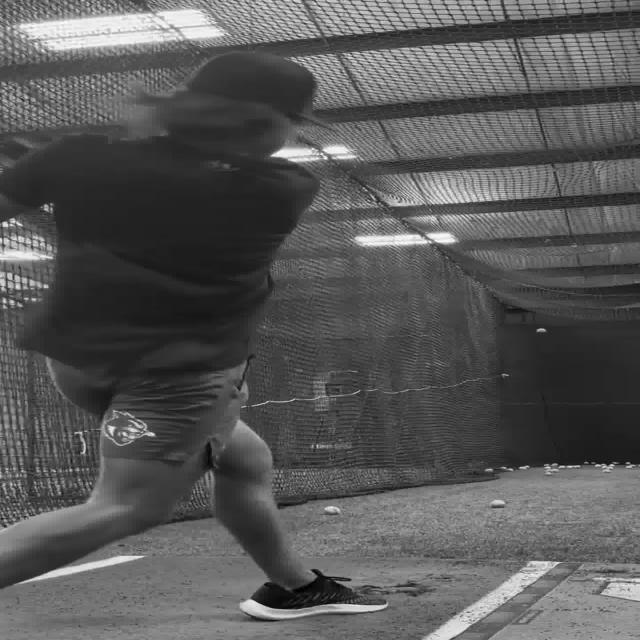baseball: (323, 506, 341, 514), (489, 500, 505, 508), (534, 326, 550, 334)
shoe: (238, 568, 388, 621)
